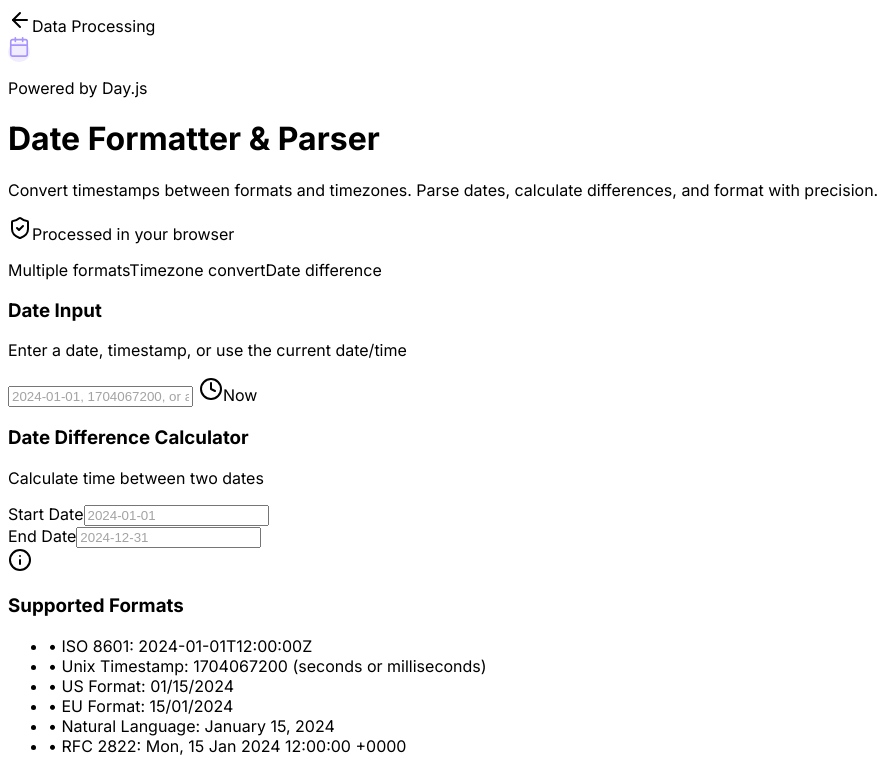
Test: Date Formatter Page › Date Input and Parsing › accepts Unix timestamp input
Step 1. Type "1704067200" into the field with placeholder "2024-01-01, 1704067200, or any date format..." → x=100, y=397, box [8,386,193,407]
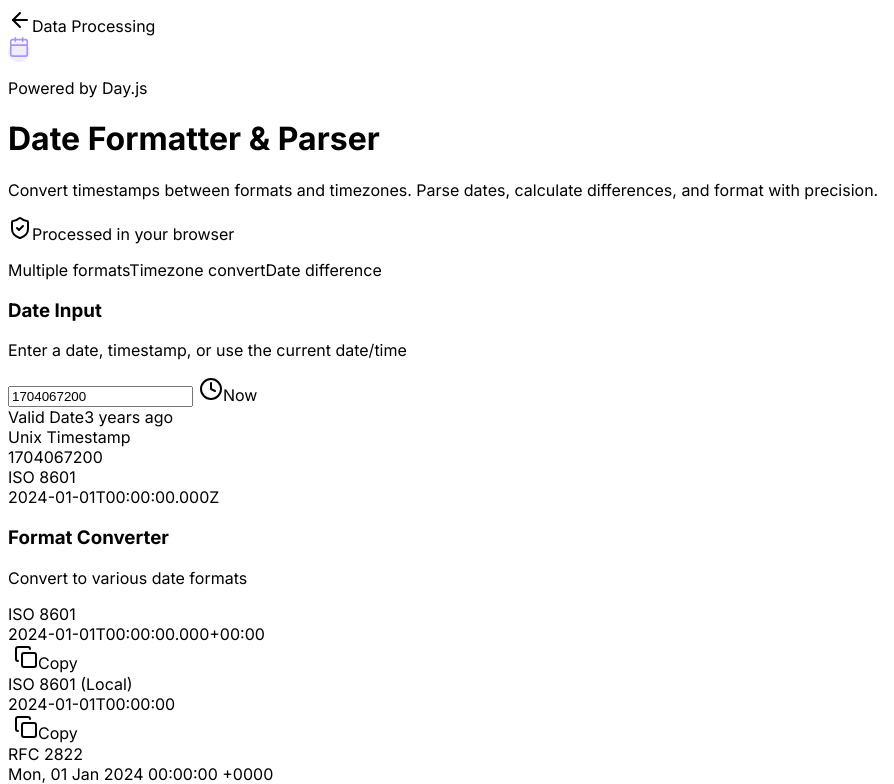
Result: the text "Valid Date" is shown at [8,407,84,427]
